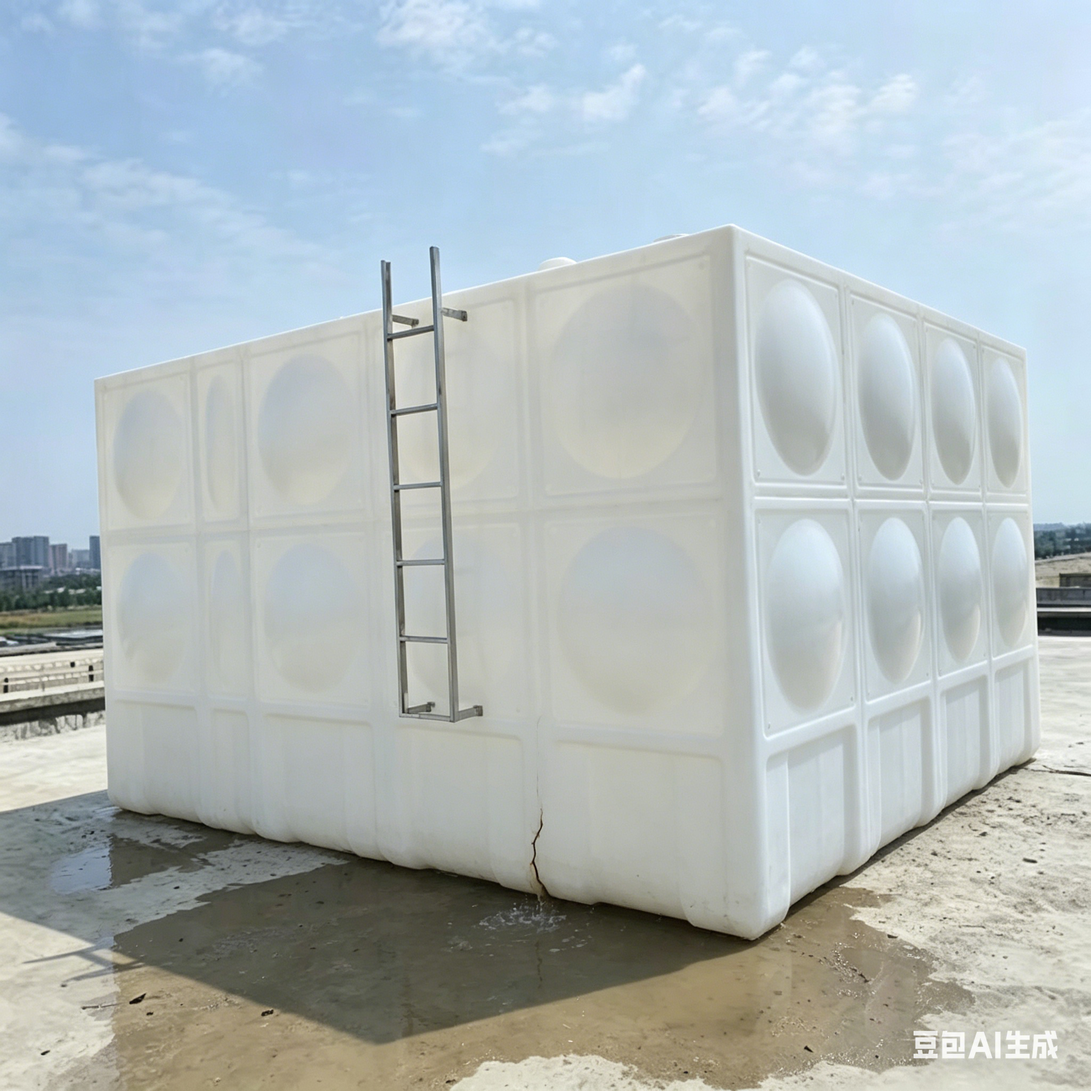Leakage: (136, 904, 919, 1079), (22, 818, 187, 882)
